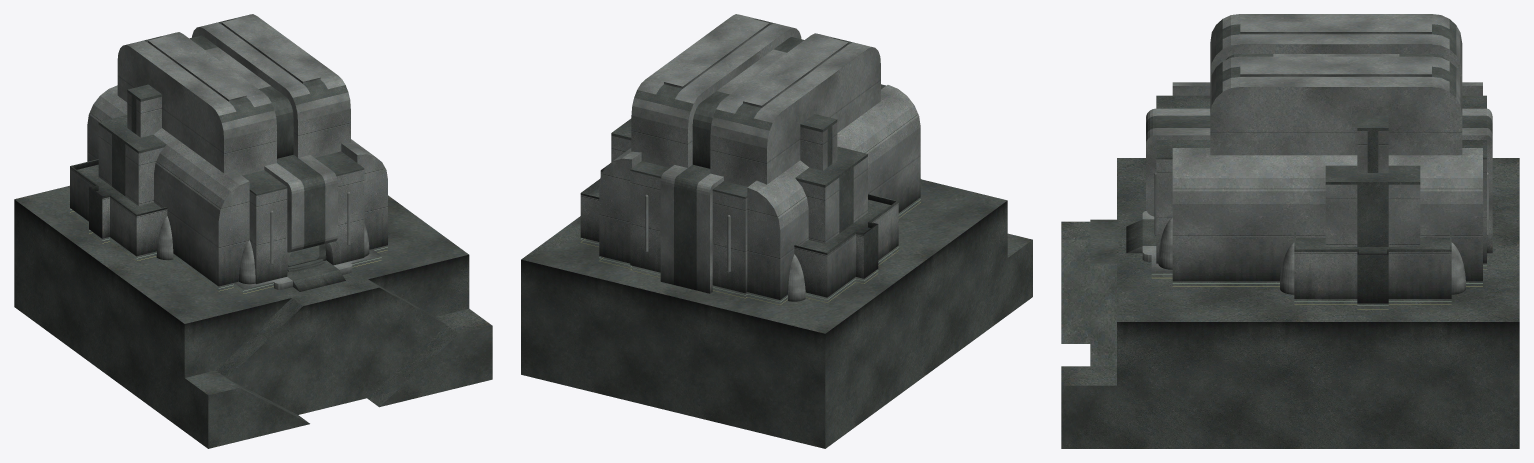
File: ply_corl_cantina_s01_r0_exterior_mesh_l0.fbx
The picture shows the model from 3 angles, left to right: view 1: azimuth 30°, elevation 25°; view 2: azimuth 150°, elevation 25°; view 3: azimuth 270°, elevation 25°; orthographic projection. The views are drawn at different scales.
Visible parts, largest first — view 1: mesh_node; view 2: mesh_node; view 3: mesh_node.
Part boxes in pixels (left/top/right/bottom): mesh_node: left=14, top=14, right=492, bottom=448; mesh_node: left=521, top=14, right=1032, bottom=448; mesh_node: left=1061, top=14, right=1519, bottom=448.
Bounding box in the file's own units: 36.98 × 33.54 × 43.68.
